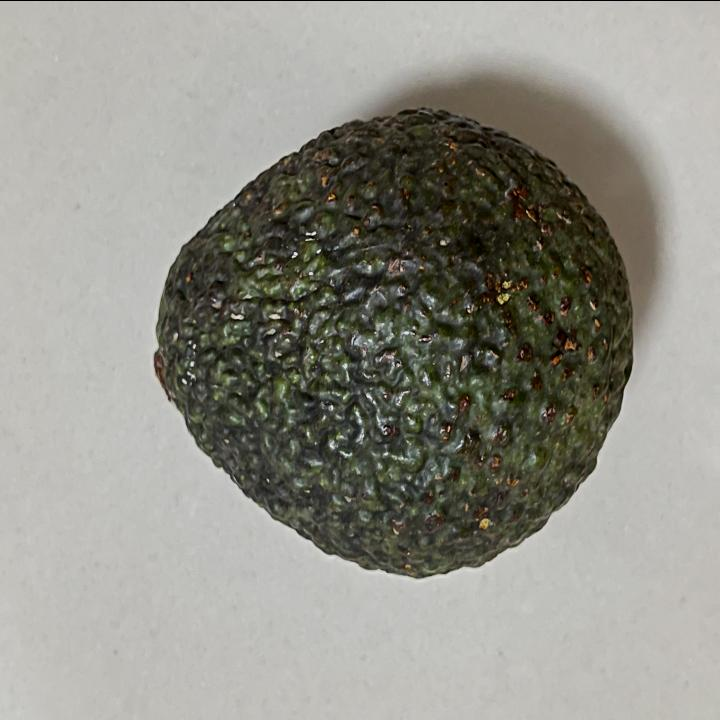Level1: (136, 95, 640, 601)
